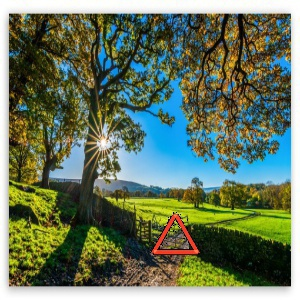triangle: (148, 209, 201, 257)
